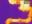Hotspot: (5, 18, 29, 23), (20, 1, 30, 11), (8, 0, 16, 4)
